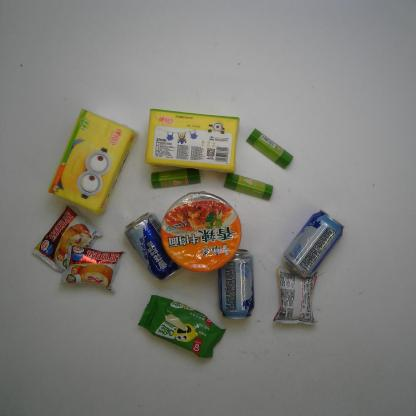Alcohol: (282, 209, 346, 278), (124, 211, 183, 282), (217, 247, 255, 320)
Dessert: (137, 294, 227, 359), (30, 203, 105, 275), (59, 239, 126, 294), (272, 265, 318, 326)
Instant Noodles: (160, 190, 243, 272)
Stationery: (245, 129, 294, 170), (223, 172, 274, 201), (151, 167, 201, 189)
Tissue: (47, 108, 139, 215), (145, 108, 240, 174)
